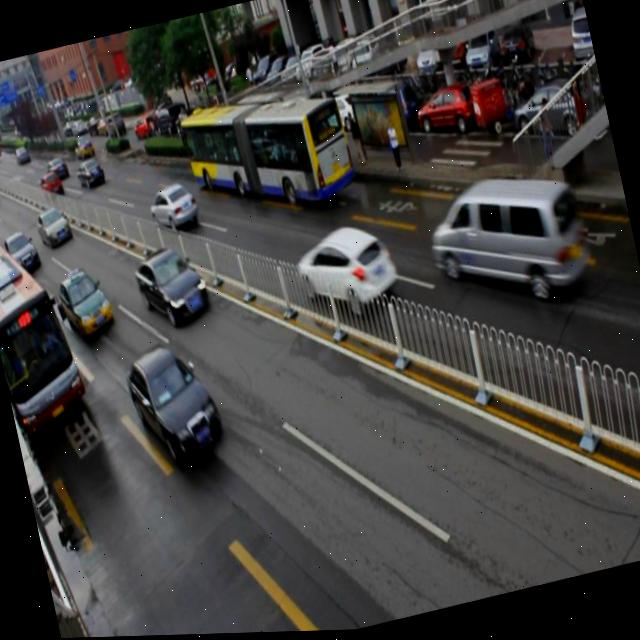car: (121, 335, 228, 473), (292, 217, 400, 319), (130, 240, 214, 332), (56, 263, 115, 342), (146, 182, 200, 235), (2, 227, 41, 274), (36, 206, 72, 248), (75, 157, 105, 189)
truck: (419, 162, 597, 323)
van: (177, 76, 357, 233), (0, 233, 90, 435)
